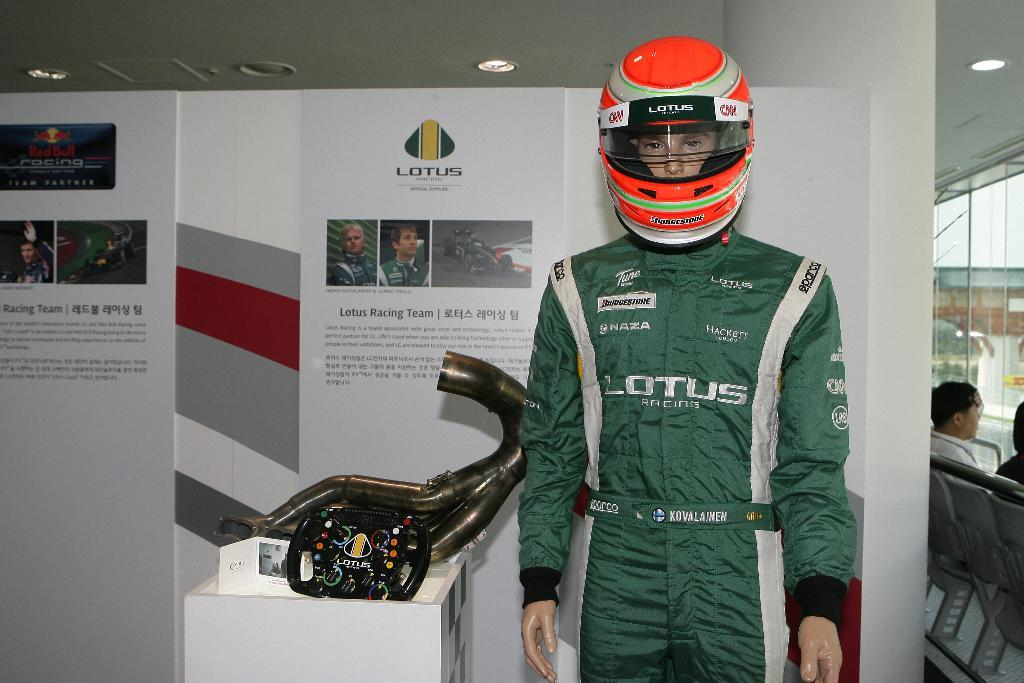helmet: (597, 36, 754, 248)
nohelmet: (931, 380, 982, 442)
